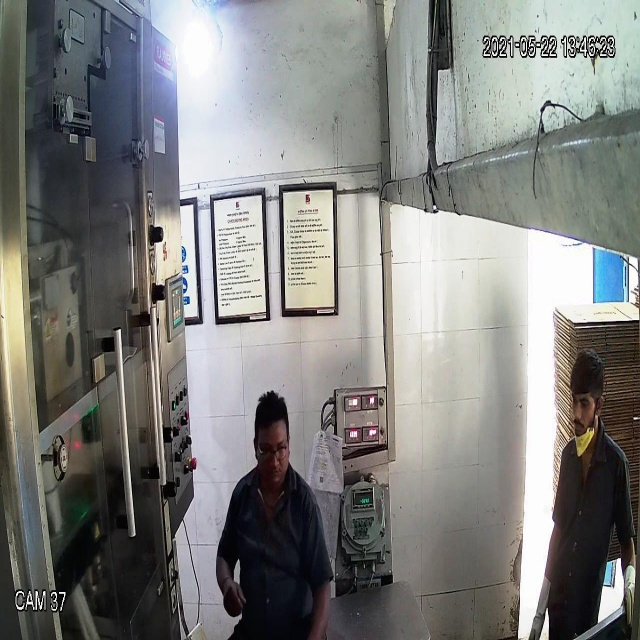Gafas: (252, 436, 292, 462)
Sin_gafas: (566, 392, 602, 415)
